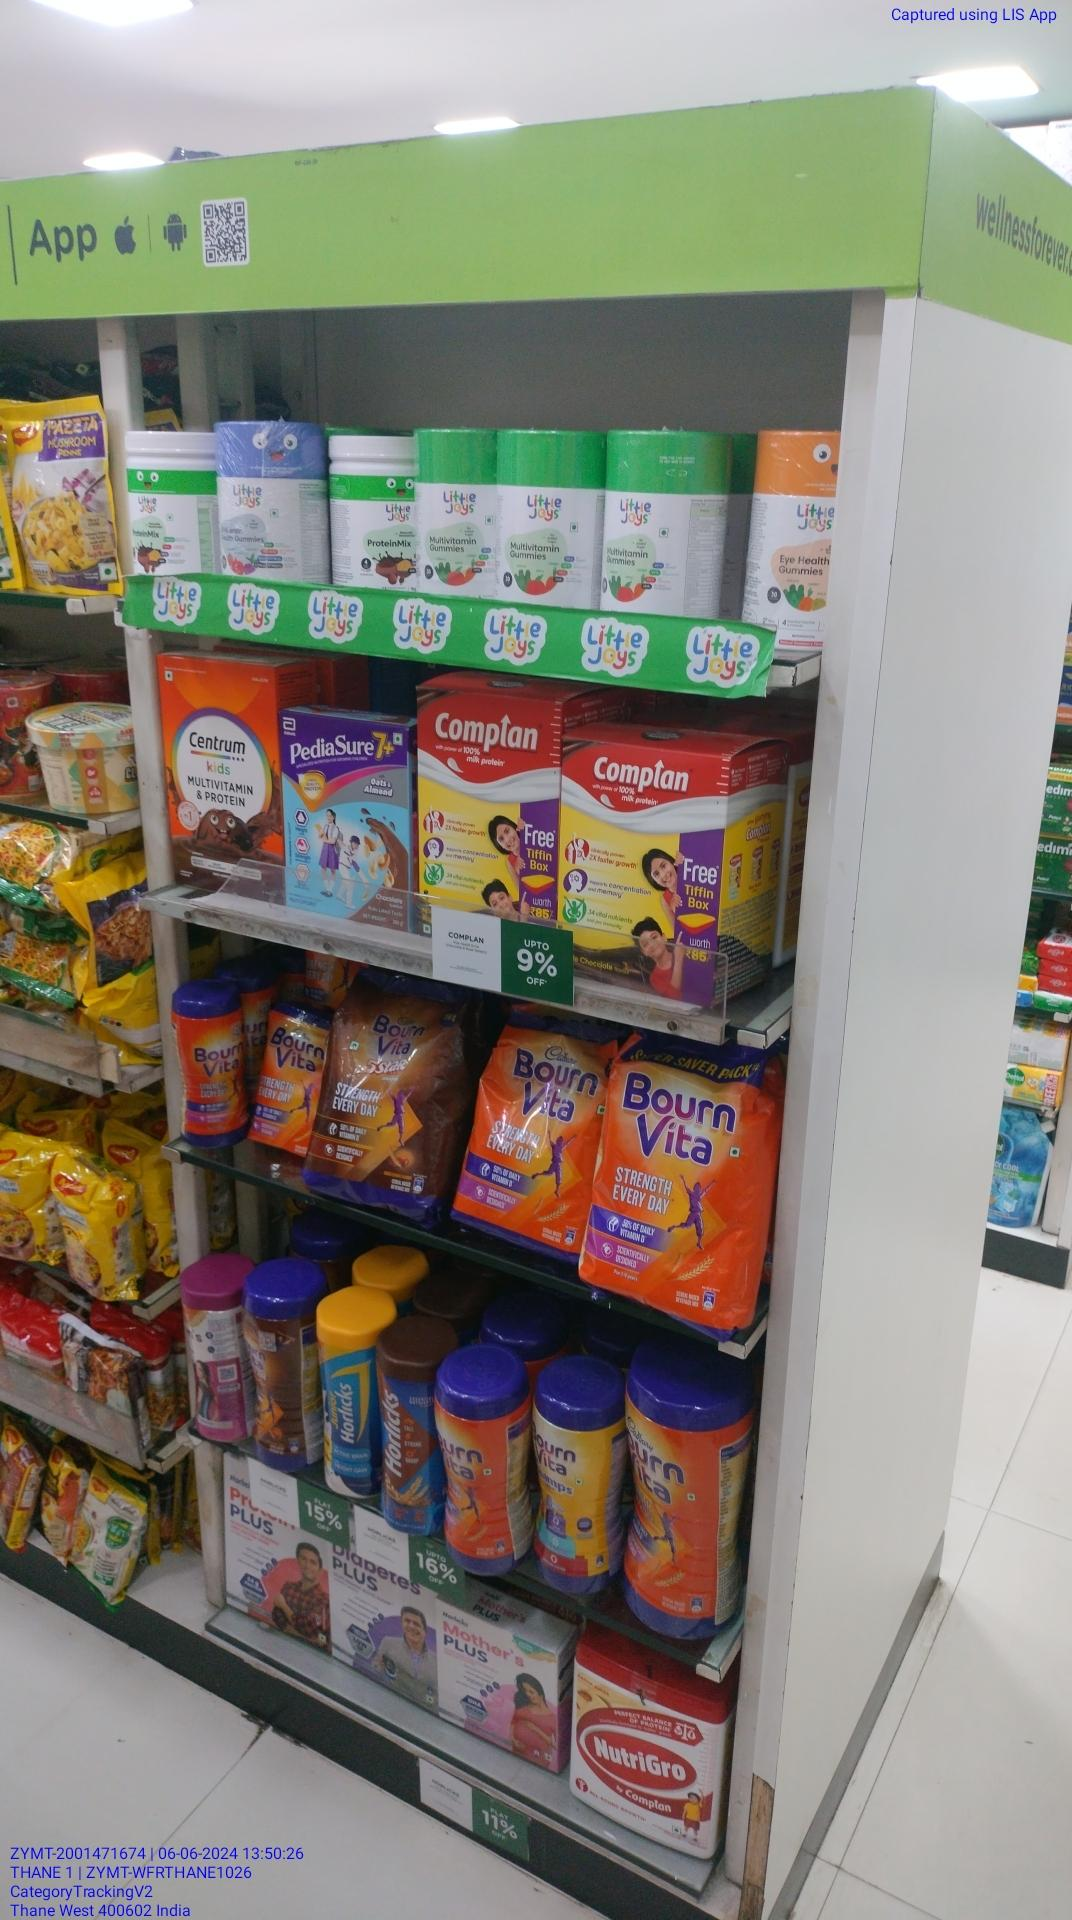BOURN_VITA_1_KG_JAR: (622, 1369, 742, 1647)
BOURN_VITA_75_G_POUCH: (253, 1004, 313, 1159)
BOURN_VITA_CHAMPS_500_G_JAR: (526, 1396, 612, 1607)
BOURN_VITA_FIVE_STAR_MAGIC_500_G_JAR: (240, 1284, 307, 1474)
BOURN_VITA_FIVE_STAR_MAGIC_750_G_POUCH: (315, 994, 452, 1215)
HORLICKS_JUNIOR_VANILLA_500_GM_JAR: (314, 1313, 373, 1503)
HORLICK_CHOCOLATE_500_G_JAR: (380, 1340, 438, 1545)
